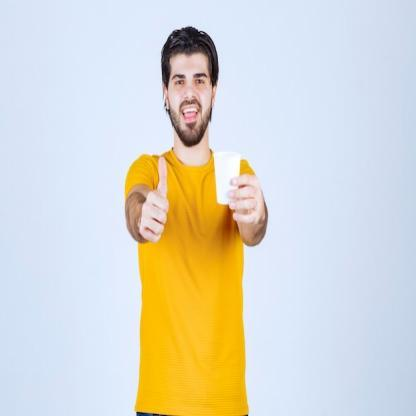thumb_up: (137, 154, 174, 246)
